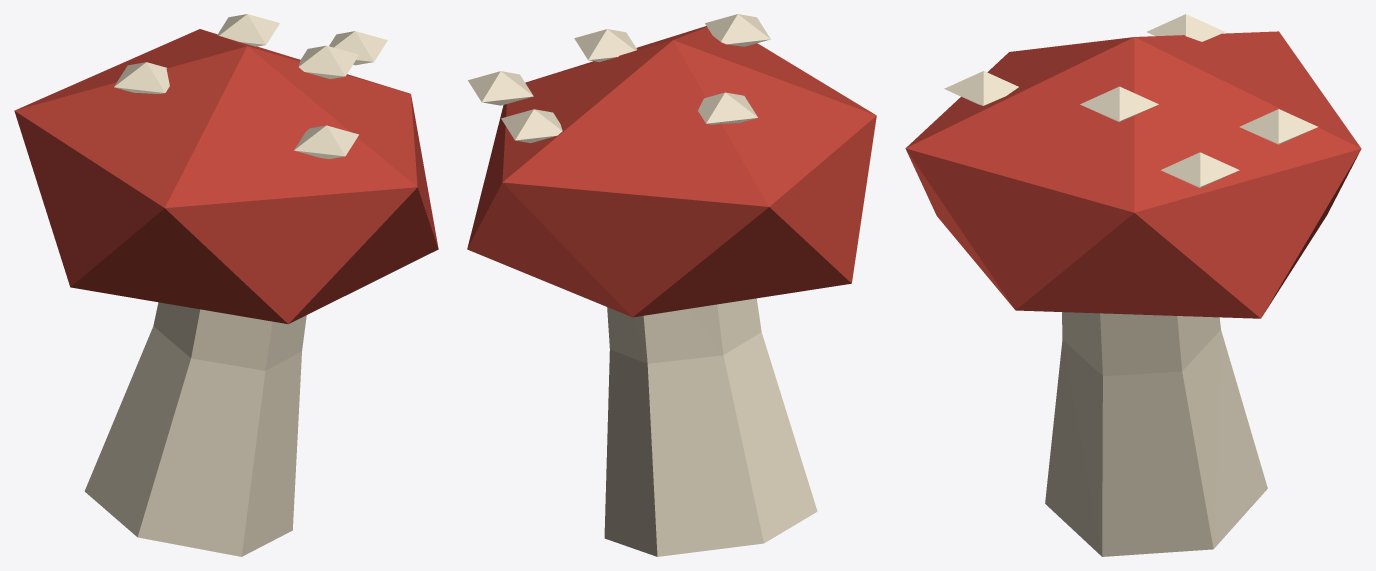
The model's file is HS_LP_Mushroom_Red_01.fbx.
3 renders of one model, left to right at view 1: azimuth 30°, elevation 25°; view 2: azimuth 150°, elevation 25°; view 3: azimuth 270°, elevation 25°, orthographic. The views are drawn at different scales.
Parts seen in each view (by area): view 1: HS_LP_Mushroom_Red_01; view 2: HS_LP_Mushroom_Red_01; view 3: HS_LP_Mushroom_Red_01.
Boxes of the visible parts, x1=… form: HS_LP_Mushroom_Red_01: x1=14, y1=14, x2=438, y2=556; HS_LP_Mushroom_Red_01: x1=467, y1=14, x2=876, y2=556; HS_LP_Mushroom_Red_01: x1=905, y1=14, x2=1361, y2=556.
Bounding box in the file's own units: 18.59 × 24.45 × 20.04.
